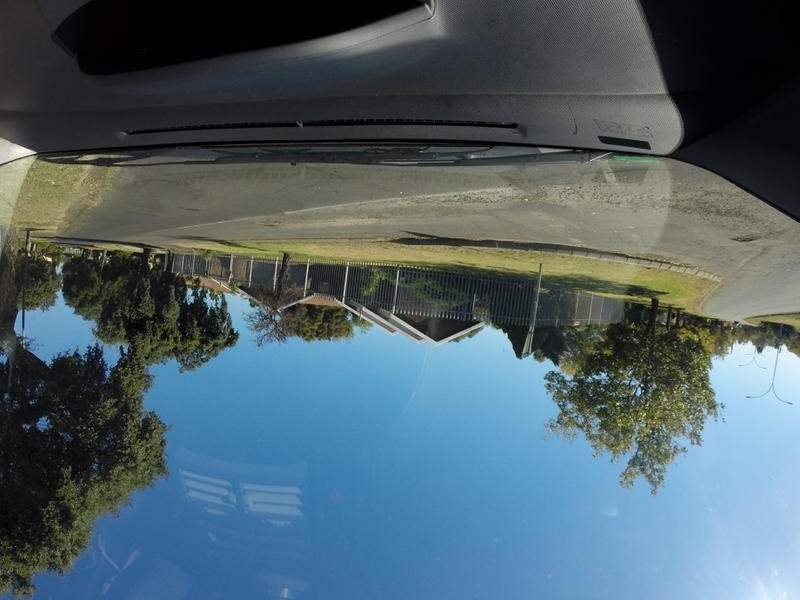pothole: (417, 188, 631, 210), (653, 191, 744, 211), (248, 216, 286, 233), (729, 229, 762, 242)
